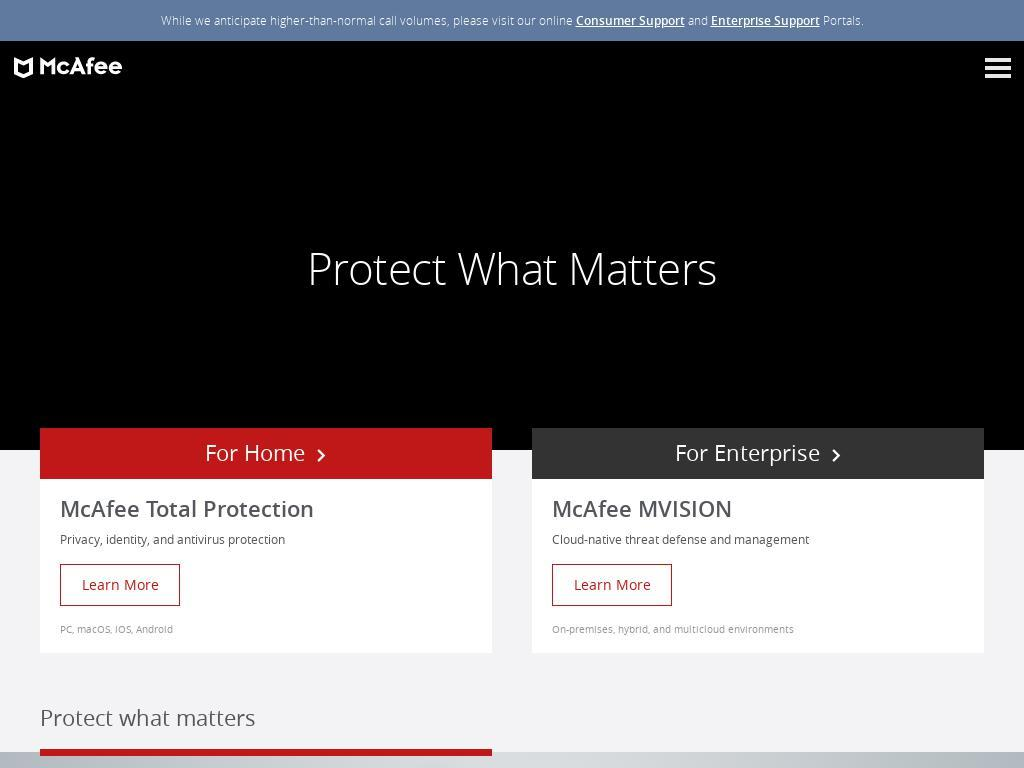button: (40, 428, 492, 479), (532, 428, 984, 479), (60, 494, 472, 524), (552, 494, 964, 524), (60, 564, 180, 606), (552, 564, 672, 606), (14, 57, 122, 79), (985, 41, 1010, 95), (948, 57, 964, 73)
heading: (40, 703, 984, 732), (306, 243, 718, 295), (60, 494, 472, 524), (552, 494, 964, 524), (674, 438, 842, 467), (205, 438, 327, 467)
image: (0, 10, 1024, 522), (984, 58, 1011, 62), (984, 66, 1011, 70), (984, 74, 1011, 78)
link: (575, 12, 685, 29), (710, 12, 820, 29)
text: (14, 41, 930, 95), (60, 529, 472, 549), (552, 529, 964, 549), (60, 621, 472, 638), (552, 621, 964, 638), (160, 12, 576, 28), (819, 12, 864, 28), (684, 12, 711, 28)
